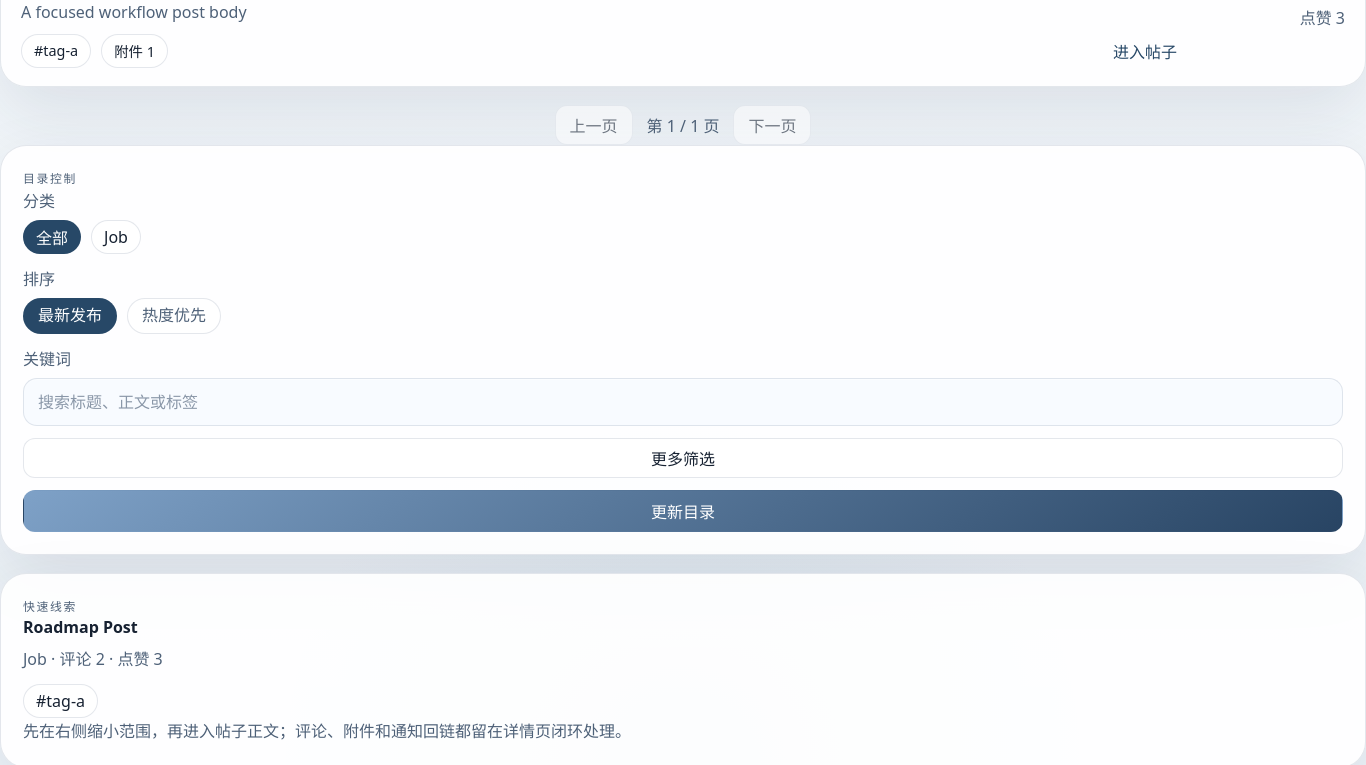
Scenario: CommunityHubPage › keeps attachment filters collapsed until the user opens more filters
(page scrolled)
Check: the button "仅看有附件" is not shown
Click the button "更多筛选" at (683,458), box x1=23 y1=438 x2=1343 y2=478
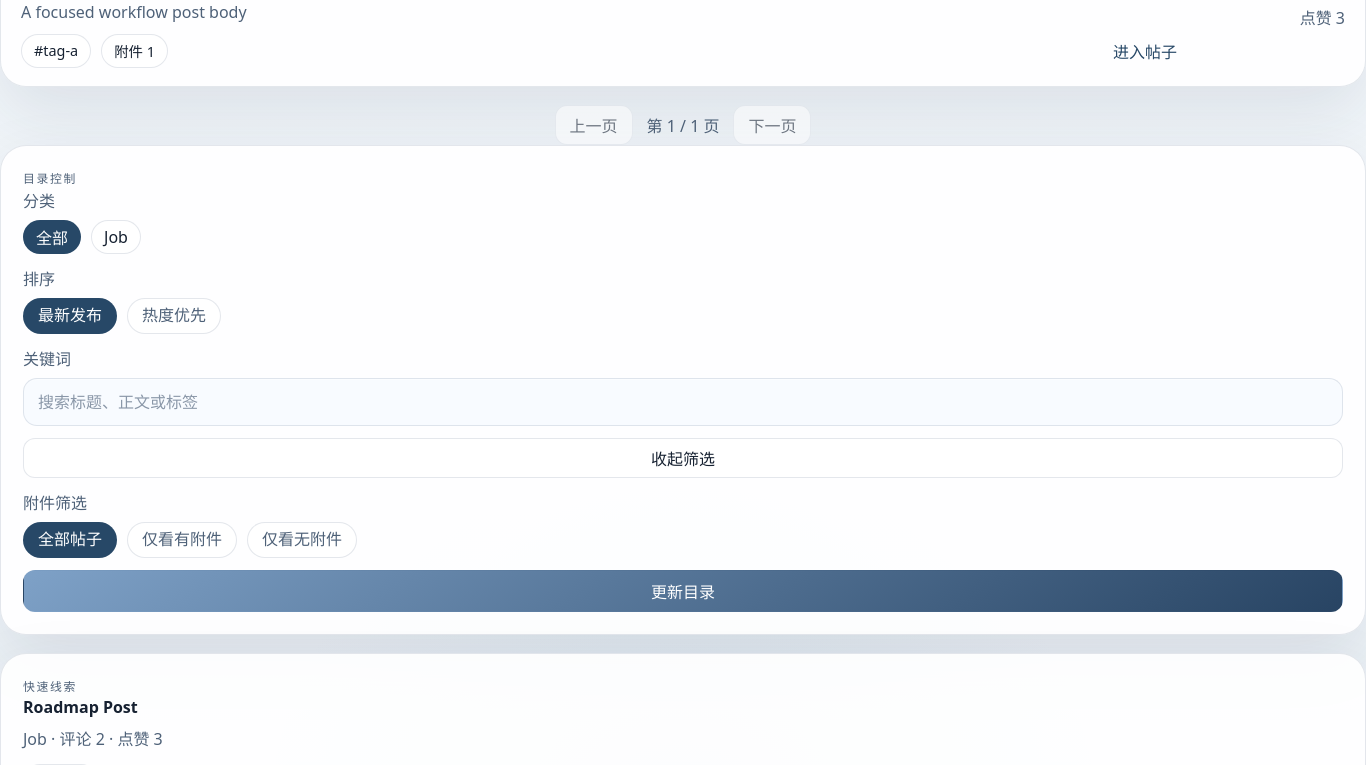
Check: the button "仅看有附件" is shown, box x1=127 y1=522 x2=237 y2=558
Check: the button "收起筛选" is shown, box x1=23 y1=438 x2=1343 y2=478
